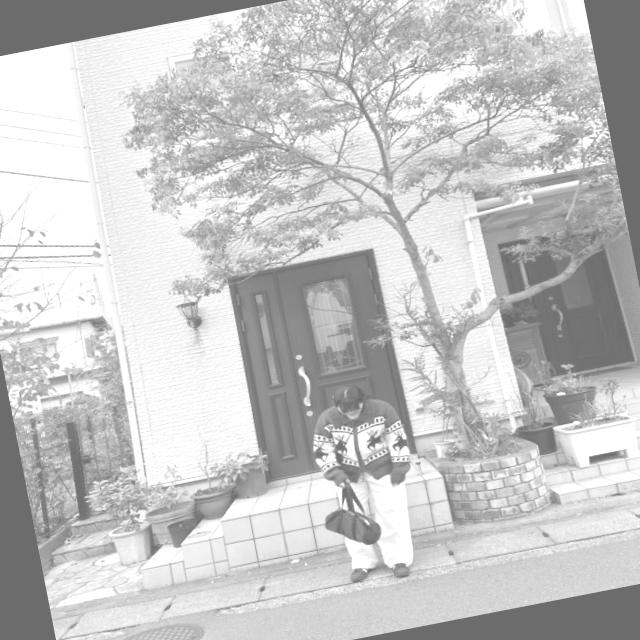cardigan: (303, 392, 417, 498)
cottonpants: (332, 461, 418, 578)
